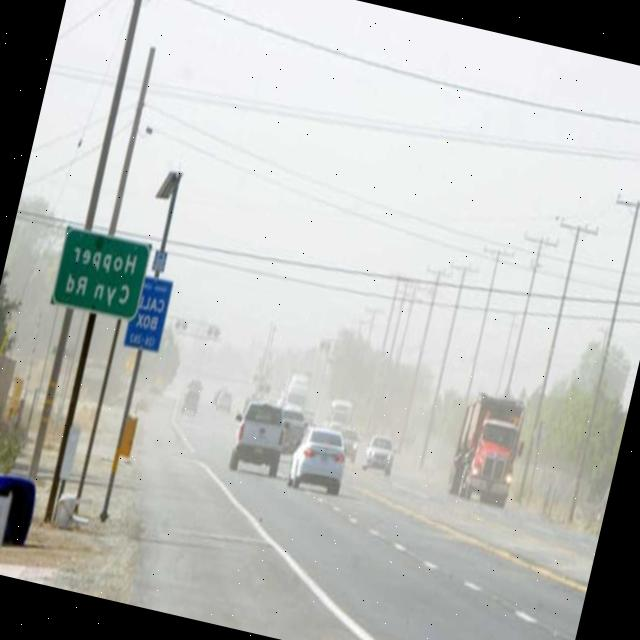bus: (444, 388, 530, 508), (278, 368, 312, 419), (319, 399, 352, 444), (180, 378, 203, 416)
car: (284, 423, 353, 498), (227, 394, 288, 476), (358, 432, 398, 476), (275, 408, 307, 454), (337, 428, 361, 459), (216, 390, 233, 412)
